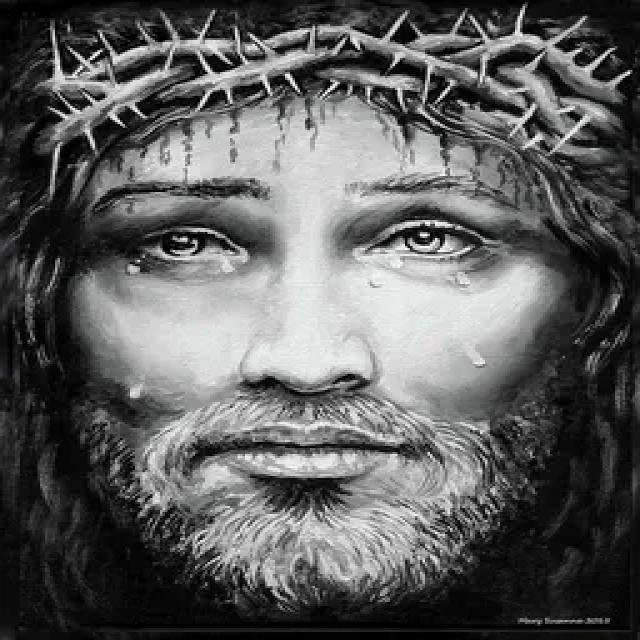crown: (7, 0, 640, 173)
